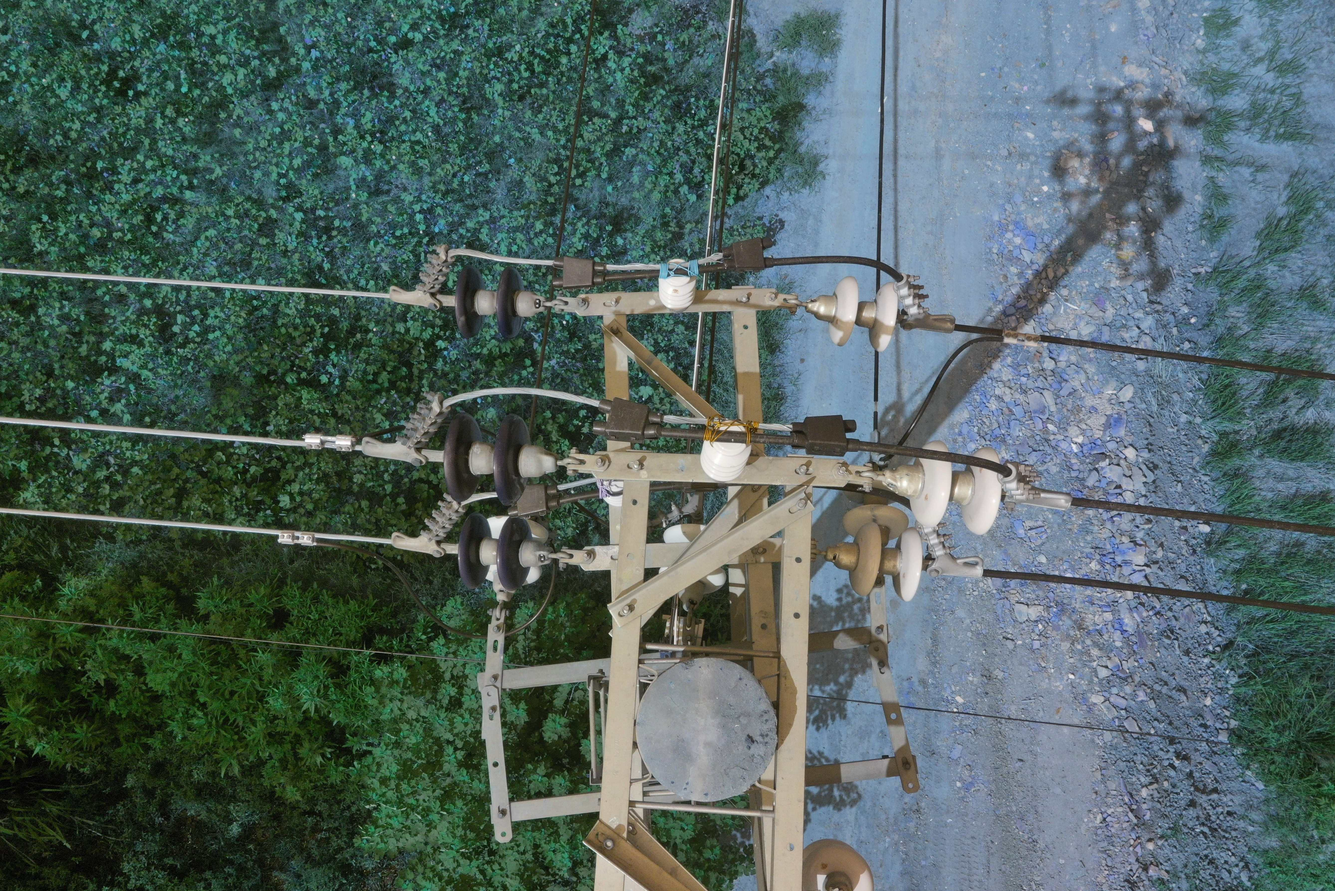severe_soiling_no_discharge_whole: (839, 490, 912, 547)
